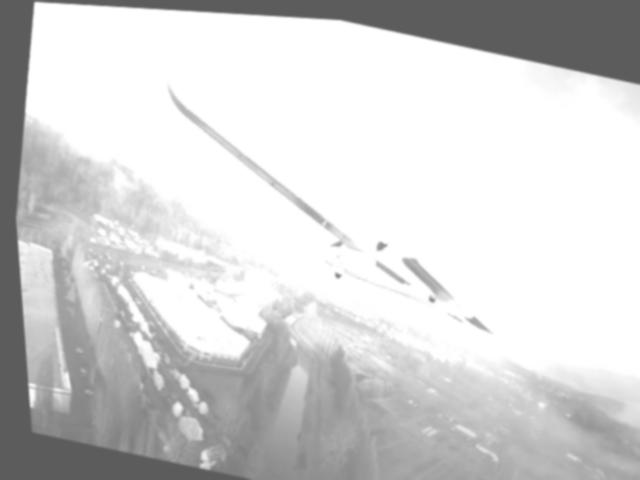hedef: (126, 60, 540, 361)
